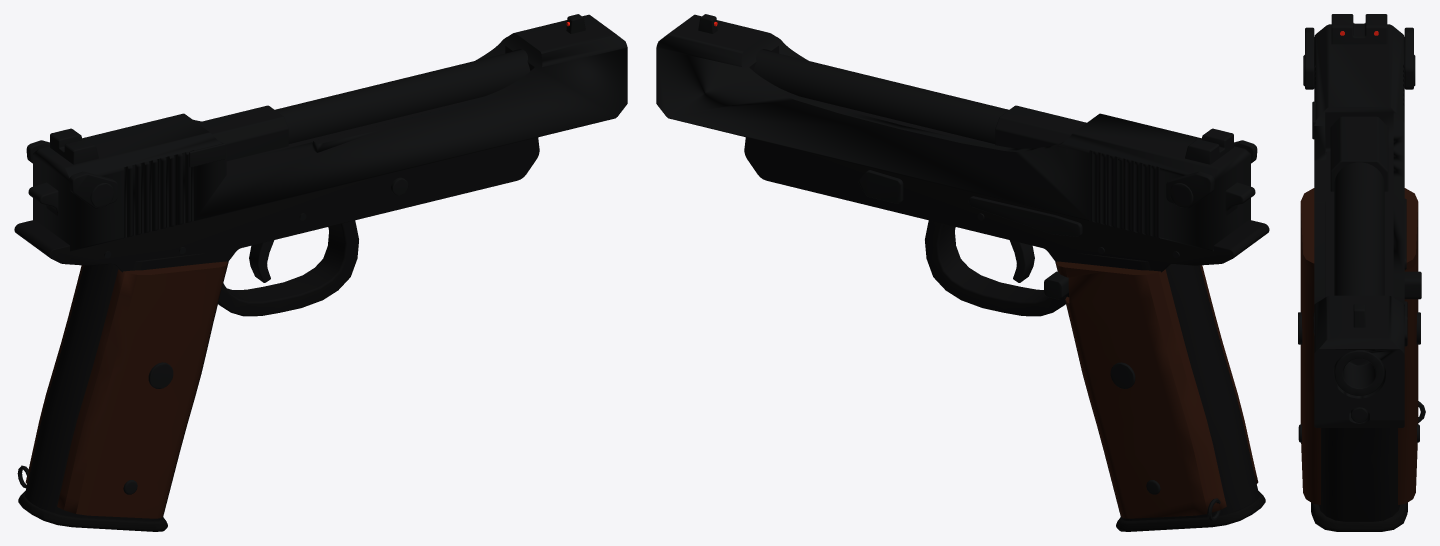
The model's file is p_twins.glb.
3 views of the same model, side by side, from view 1: azimuth 30°, elevation 25°; view 2: azimuth 150°, elevation 25°; view 3: azimuth 270°, elevation 25° (orthographic). The views are drawn at different scales.
Parts seen in each view (by area): view 1: SM_W_p_twins; view 2: SM_W_p_twins; view 3: SM_W_p_twins.
Boxes of the visible parts, bbox=[...] form: SM_W_p_twins: bbox=[14, 14, 627, 531]; SM_W_p_twins: bbox=[656, 14, 1269, 531]; SM_W_p_twins: bbox=[1298, 14, 1425, 531].
Bounding box in the file's own units: 0.2176 × 0.1425 × 0.0354.
